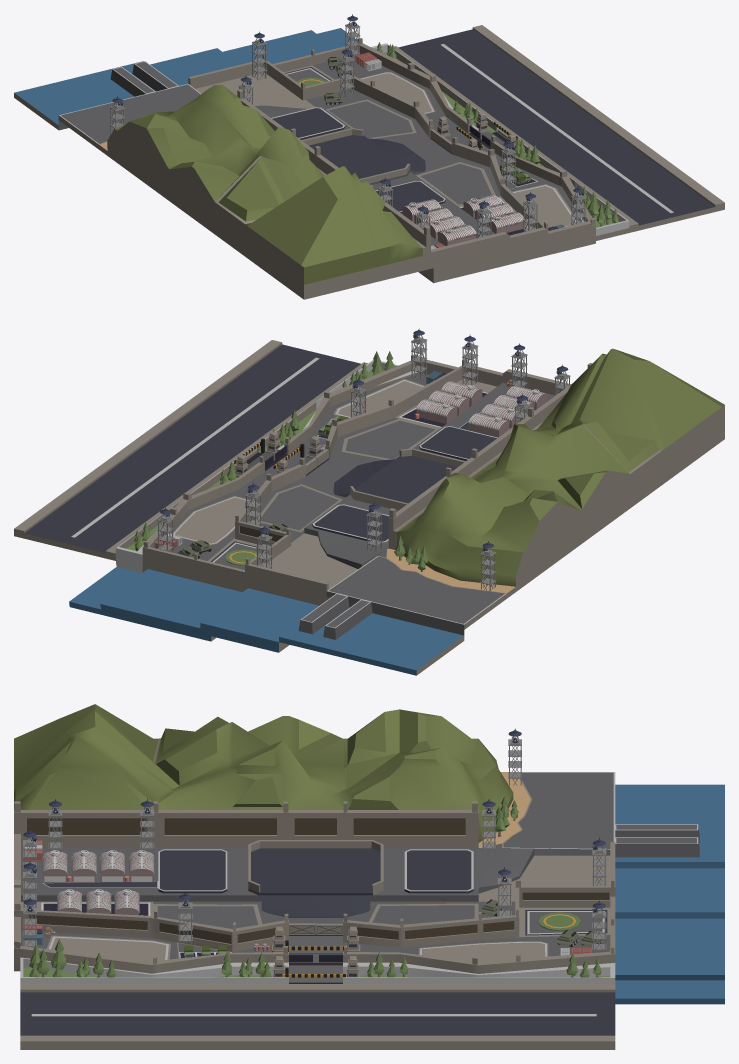
The model's file is 主界面底图.fbx.
3 views of the same model, one above another, from view 1: azimuth 30°, elevation 25°; view 2: azimuth 150°, elevation 25°; view 3: azimuth 270°, elevation 25° (orthographic). The views are drawn at different scales.
Visible parts, largest first — view 1: 圆柱_28; view 2: 圆柱_28; view 3: 圆柱_28.
Boxes of the visible parts, box(x1,y1,x2,y2) form: 圆柱_28: box(14, 14, 724, 299); 圆柱_28: box(14, 328, 724, 675); 圆柱_28: box(14, 704, 724, 1049).
Bounding box in the file's own units: 2211 × 584 × 2623.
